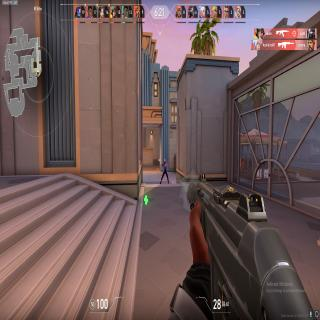ENEMY-BODY: (162, 158, 167, 184)
ENEMY-HEAD: (163, 159, 166, 164)
